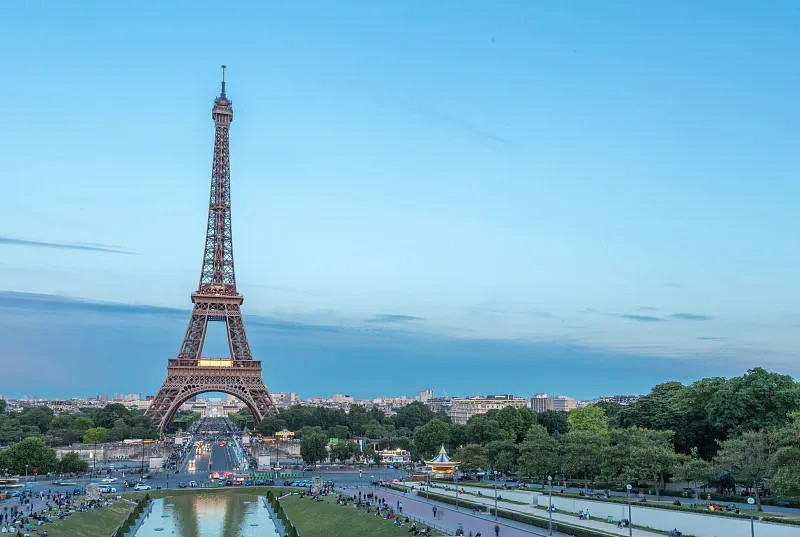Eiffel: (144, 65, 281, 430)
